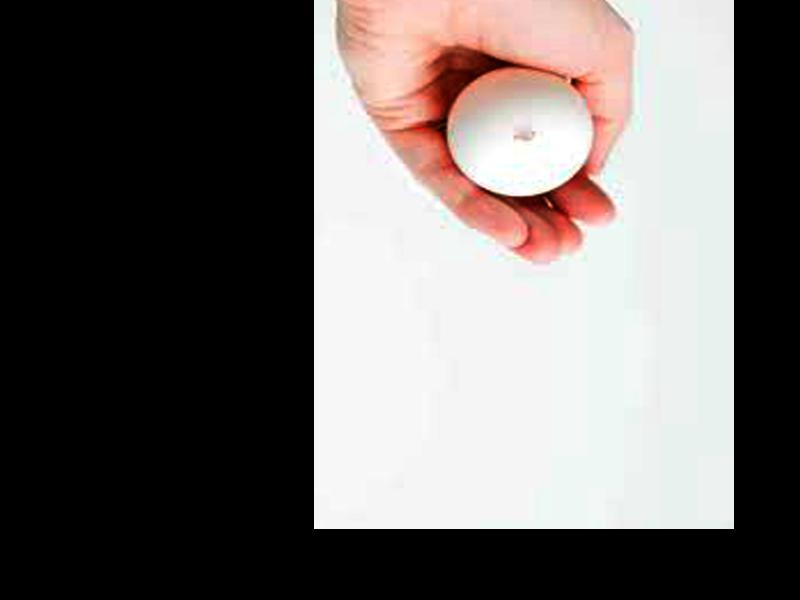Eggs: (448, 68, 589, 196)
